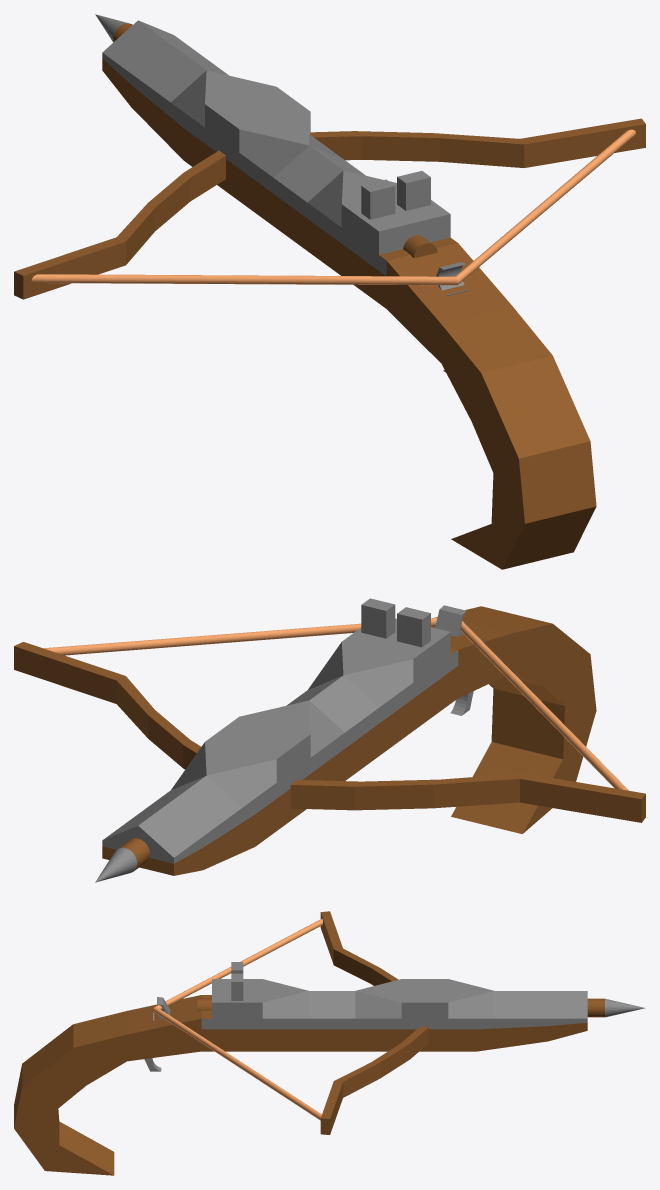
File: HandCrossbow.fbx
3 views of the same model, one above another, from view 1: azimuth 30°, elevation 25°; view 2: azimuth 150°, elevation 25°; view 3: azimuth 270°, elevation 25° (orthographic). The views are drawn at different scales.
Visible parts, largest first — view 1: Handle, Topbit, Arms, Body, String, Sights, Bolt; view 2: Topbit, Handle, Arms, Body, String, Sights, Bolt, Hook; view 3: Handle, Body, Topbit, Arms, String, Sights, Bolt.
Boxes of the visible parts, x1,y1,x2,y2 form: Handle: [386, 243, 596, 569]; Topbit: [102, 20, 396, 227]; Arms: [14, 118, 645, 299]; Body: [102, 53, 457, 308]; String: [31, 129, 635, 285]; Sights: [341, 171, 450, 254]; Bolt: [95, 14, 437, 258]; Topbit: [102, 642, 413, 857]; Handle: [431, 606, 596, 834]; Arms: [14, 642, 645, 822]; Body: [102, 648, 458, 875]; String: [44, 617, 628, 790]; Sights: [342, 598, 450, 682]; Bolt: [95, 838, 149, 882]; Hook: [435, 605, 466, 636]; Handle: [14, 995, 201, 1175]; Body: [201, 995, 587, 1051]; Topbit: [262, 979, 587, 1018]; Arms: [320, 911, 428, 1134]; String: [152, 918, 322, 1120]; Sights: [212, 962, 262, 1018]; Bolt: [197, 998, 645, 1017].
Bounding box in the file's own units: 255 × 328 × 110.
